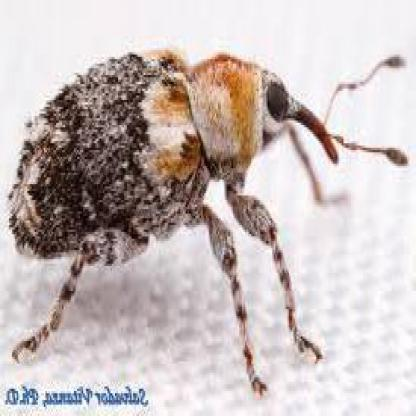ash weevil: (10, 48, 410, 400)
